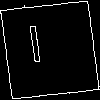I: (25, 25, 46, 72)
